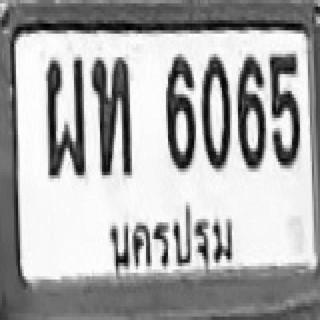A23: (91, 55, 131, 176)
A28: (44, 56, 84, 177)
N00: (200, 54, 230, 168)
N05: (268, 54, 300, 170)
N06: (164, 52, 194, 170), (236, 54, 264, 168)
P28: (105, 195, 242, 278)
